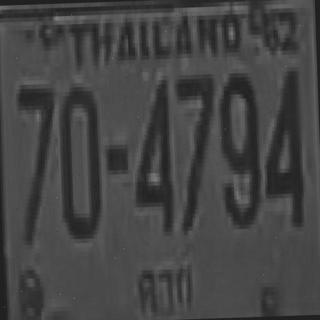N00: (58, 82, 101, 235)
N04: (261, 67, 302, 224), (132, 78, 172, 230)
N07: (173, 70, 217, 227), (15, 82, 56, 238)
N09: (216, 68, 260, 225)
P69: (130, 251, 194, 316)
